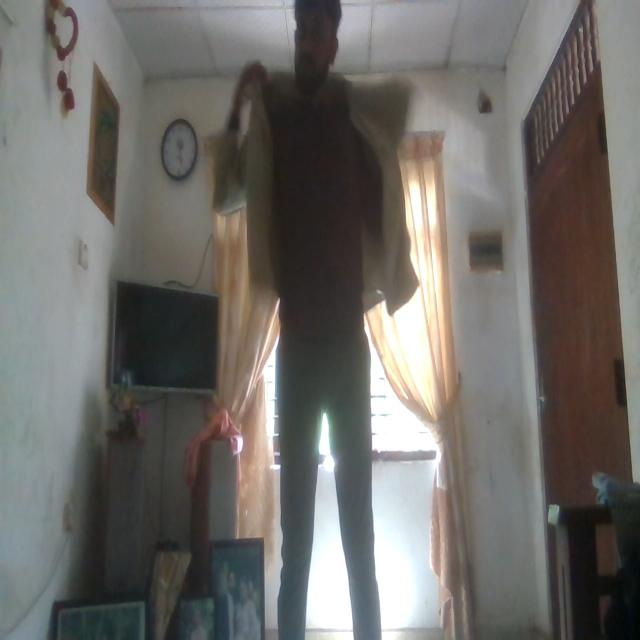Jacket_Wearer: (224, 63, 428, 318)
Person: (254, 0, 392, 640)
